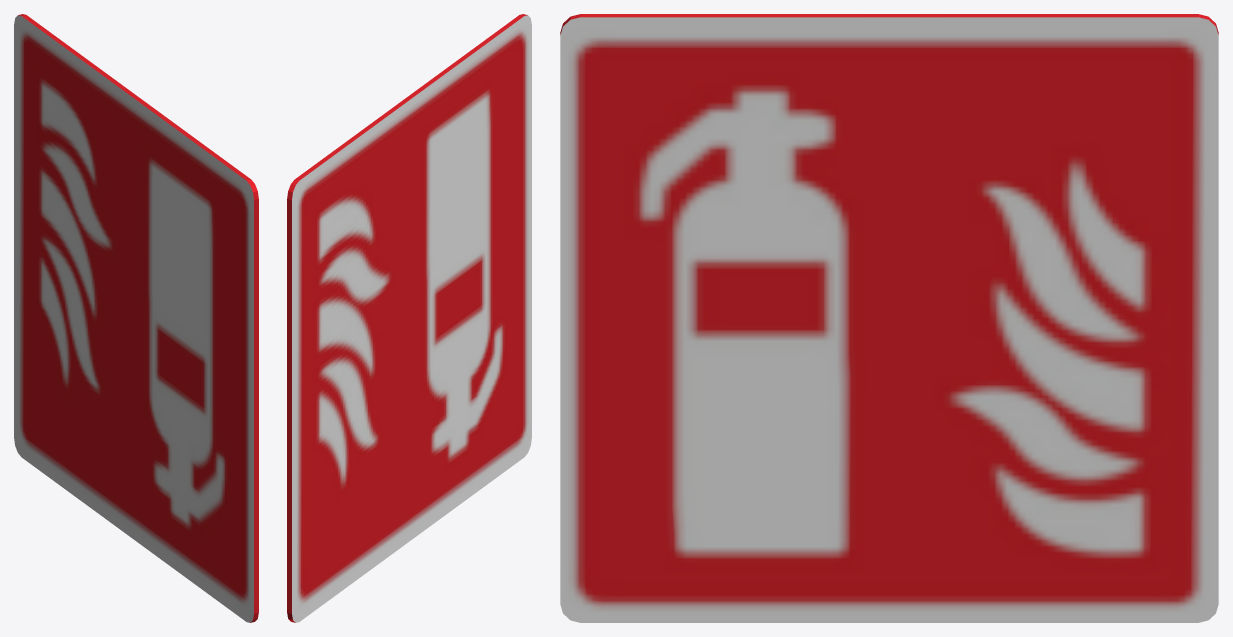
File: DecalExtinguisher.fbx
The picture shows the model from 3 angles, left to right: view 1: azimuth 30°, elevation 25°; view 2: azimuth 150°, elevation 25°; view 3: azimuth 270°, elevation 25°; orthographic projection. The views are drawn at different scales.
Visible parts, largest first — view 1: DecalExtinguisher; view 2: DecalExtinguisher; view 3: DecalExtinguisher.
Part boxes in pixels (left/top/right/bottom): DecalExtinguisher: left=14, top=14, right=258, bottom=622; DecalExtinguisher: left=287, top=14, right=531, bottom=622; DecalExtinguisher: left=560, top=14, right=1218, bottom=622.
Size of the model in its own units: 5.01e-05 by 0.00435 by 0.00429.
